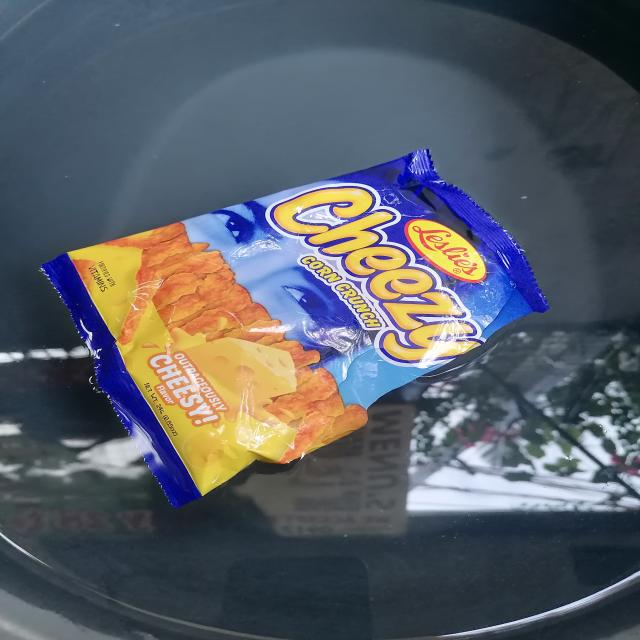Plastic Wrapper: (43, 150, 548, 506)
